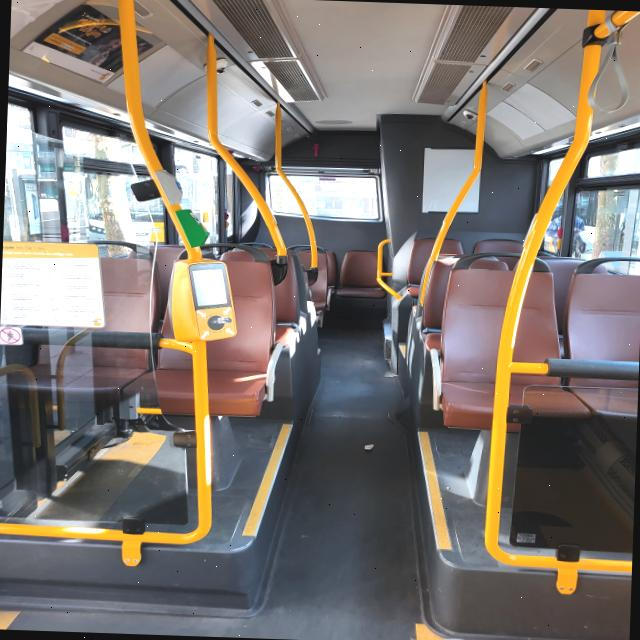empty-seat-frontal: (438, 248, 598, 434), (130, 241, 286, 430), (557, 245, 640, 434), (336, 246, 387, 305)
